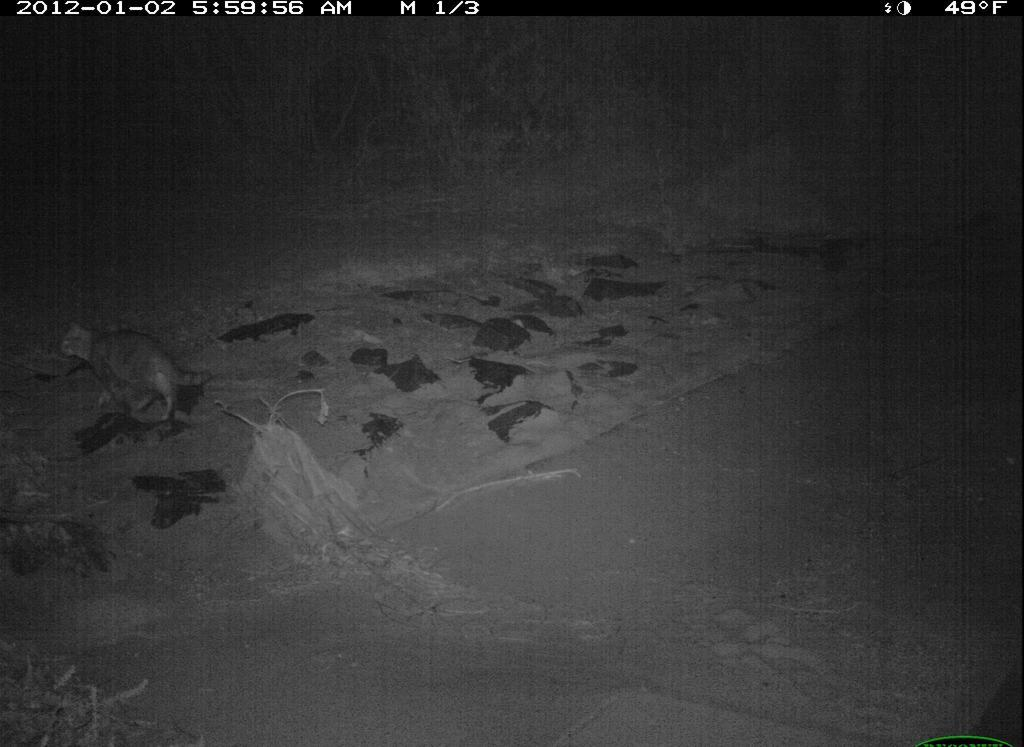cat: (50, 306, 223, 434)
